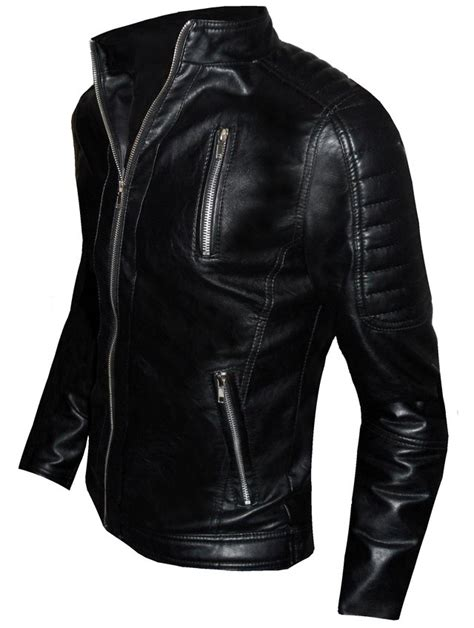cuero: (18, 6, 456, 621)
